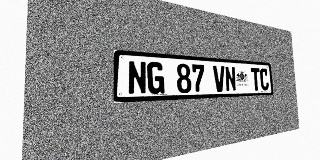7: (191, 64, 205, 93)
8: (176, 63, 192, 93)
C: (260, 68, 269, 90)
G: (147, 62, 165, 94)
N: (128, 60, 147, 95), (225, 66, 236, 92)
T: (251, 68, 261, 91)
V: (213, 65, 225, 92)
